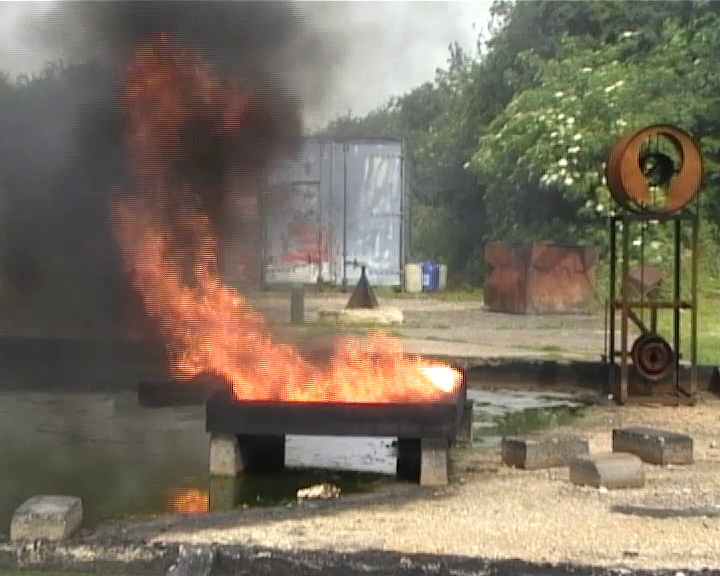fire: (178, 286, 444, 401)
